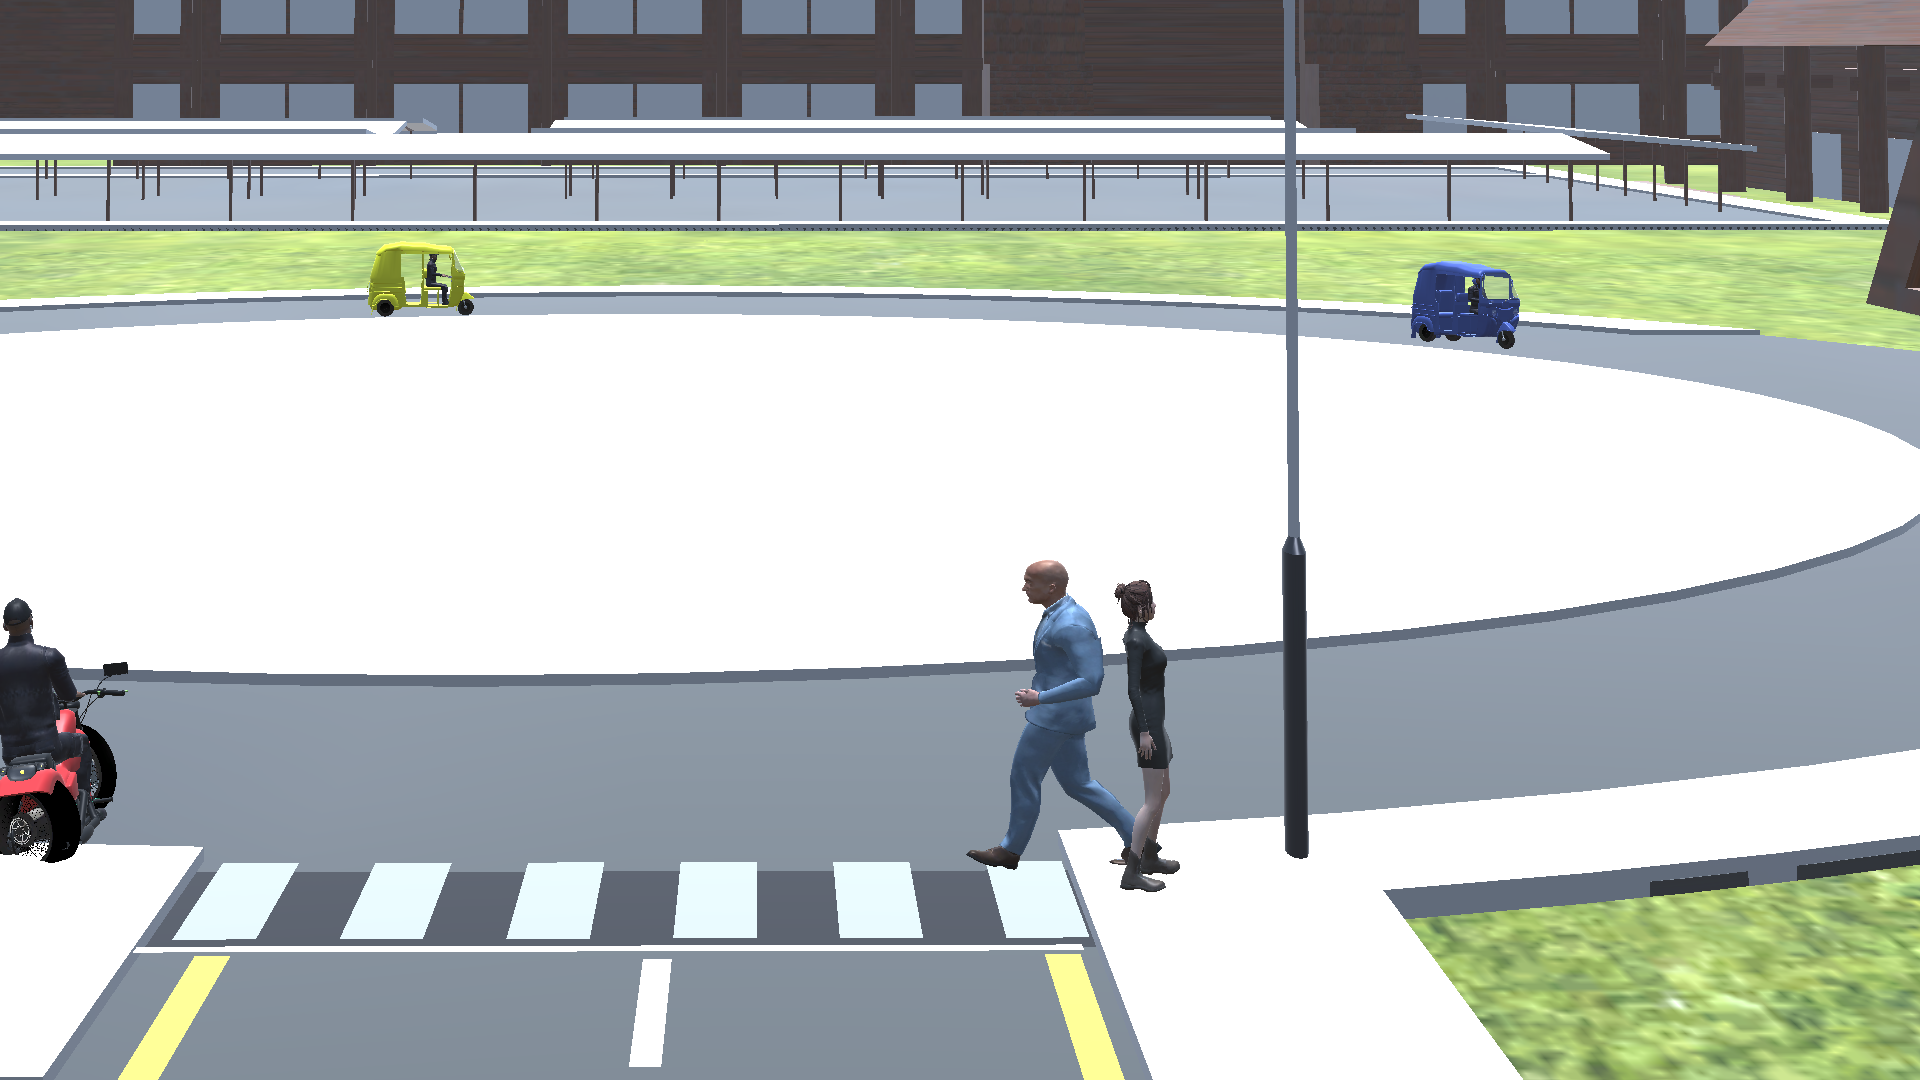pedestrian: (970, 549, 1115, 870), (1097, 574, 1201, 897)
